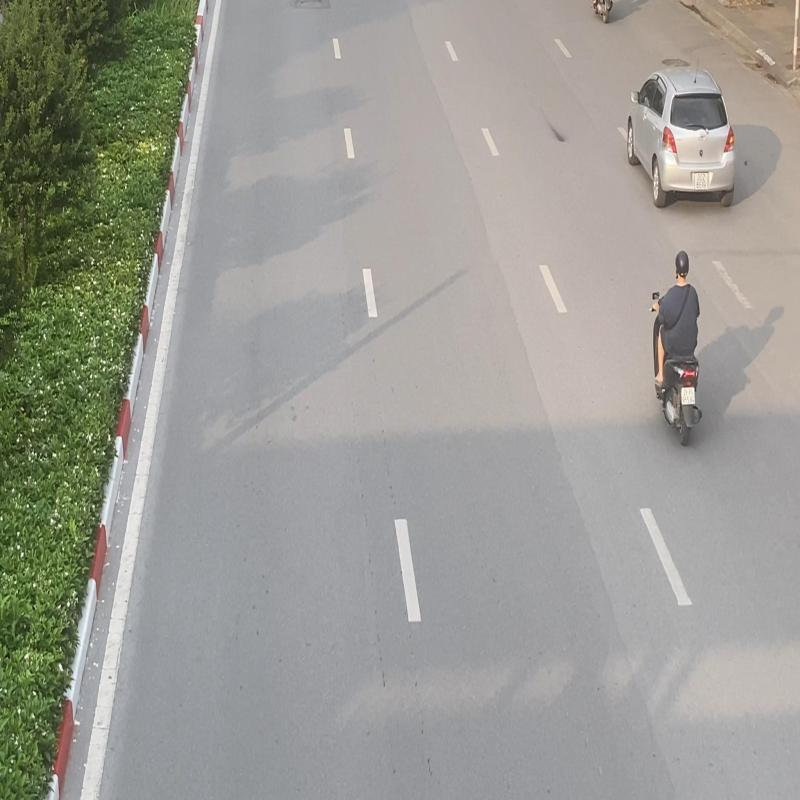helmet: (675, 250, 689, 280)
licenseplate: (681, 387, 695, 405)
motorcyclist: (648, 249, 704, 447)
